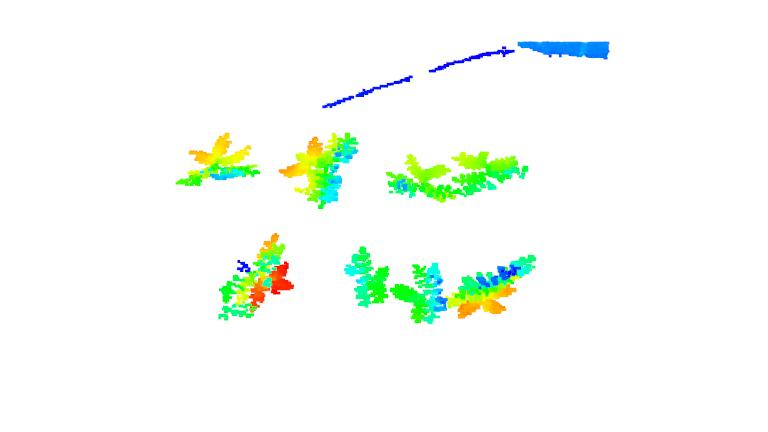chickpea: (217, 231, 292, 321), (444, 254, 543, 315), (283, 133, 362, 208), (175, 132, 259, 185), (450, 151, 527, 200), (392, 265, 448, 325), (339, 247, 392, 306), (388, 158, 454, 202)
